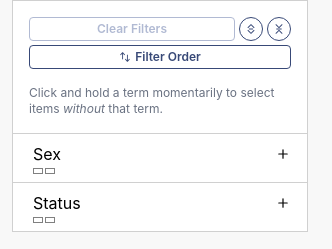
Test: Test <FacetSection> component › enters edit order mode when clicking the edit order button
The width and height of the screenshot is (332, 249).
Click the button with aria-label "Edit facet order".
click(160, 57)  # box [29,45,291,69]
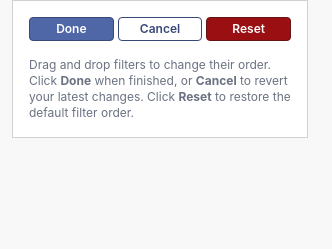
Now the button "Done" is shown, box [29,17,114,41]
Now the button "Cancel" is shown, box [118,17,202,41]
Now the button "Reset" is shown, box [206,17,291,41]
